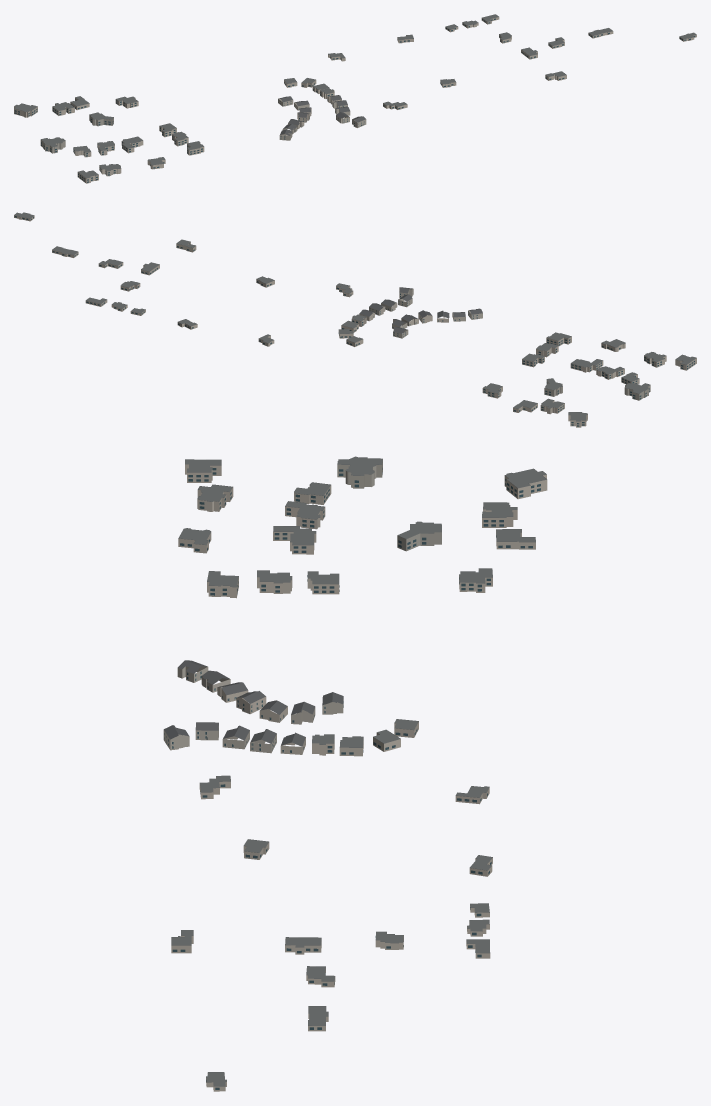
3 renders of one model, top to bottom at view 1: azimuth 30°, elevation 25°; view 2: azimuth 150°, elevation 25°; view 3: azimuth 270°, elevation 25°, orthographic. The views are drawn at different scales.
Visible parts, largest first — view 1: Buildings (-2, 10) Roof membrane, Buildings (-2, 10) Masonry brick, Buildings (-2, 10) Architectural tinted glass, Buildings (-2, 10) Roof shingles, Buildings (-2, 10) House siding, Buildings (-2, 10) Architectural concrete, Buildings (-2, 10) Metal coping; view 2: Buildings (-2, 10) Masonry brick, Buildings (-2, 10) Roof membrane, Buildings (-2, 10) Architectural tinted glass, Buildings (-2, 10) Roof shingles, Buildings (-2, 10) House siding; view 3: Buildings (-2, 10) Roof membrane, Buildings (-2, 10) Masonry brick, Buildings (-2, 10) Roof shingles, Buildings (-2, 10) Architectural tinted glass, Buildings (-2, 10) House siding, Buildings (-2, 10) Metal coping, Buildings (-2, 10) Architectural concrete.
Part boxes in pixels (box(x1,y1,x2,y2)): Buildings (-2, 10) Roof membrane: box(14, 14, 696, 178); Buildings (-2, 10) Masonry brick: box(14, 17, 696, 183); Buildings (-2, 10) Architectural tinted glass: box(14, 18, 695, 182); Buildings (-2, 10) Roof shingles: box(279, 95, 365, 135); Buildings (-2, 10) House siding: box(278, 98, 366, 140); Buildings (-2, 10) Architectural concrete: box(40, 115, 113, 153); Buildings (-2, 10) Metal coping: box(14, 19, 696, 178); Buildings (-2, 10) Masonry brick: box(14, 215, 696, 427); Buildings (-2, 10) Roof membrane: box(14, 212, 696, 421); Buildings (-2, 10) Architectural tinted glass: box(14, 216, 694, 426); Buildings (-2, 10) Roof shingles: box(359, 287, 482, 333); Buildings (-2, 10) House siding: box(369, 287, 482, 338); Buildings (-2, 10) Roof membrane: box(171, 456, 546, 1086); Buildings (-2, 10) Masonry brick: box(171, 464, 547, 1091); Buildings (-2, 10) Roof shingles: box(164, 660, 343, 746); Buildings (-2, 10) Architectural tinted glass: box(164, 468, 540, 1089); Buildings (-2, 10) House siding: box(163, 666, 343, 753); Buildings (-2, 10) Metal coping: box(171, 456, 546, 1086); Buildings (-2, 10) Architectural concrete: box(337, 460, 441, 551).
Size of the model in its own units: 906 by 24.18 by 244.
